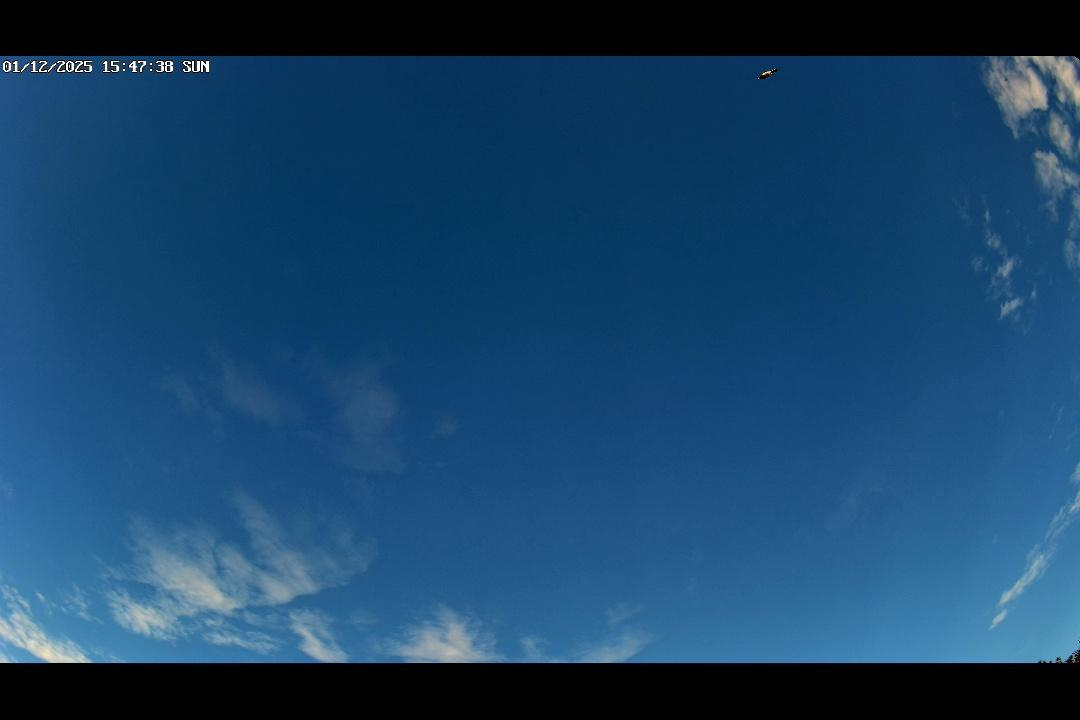WildLife: (744, 61, 794, 84)
